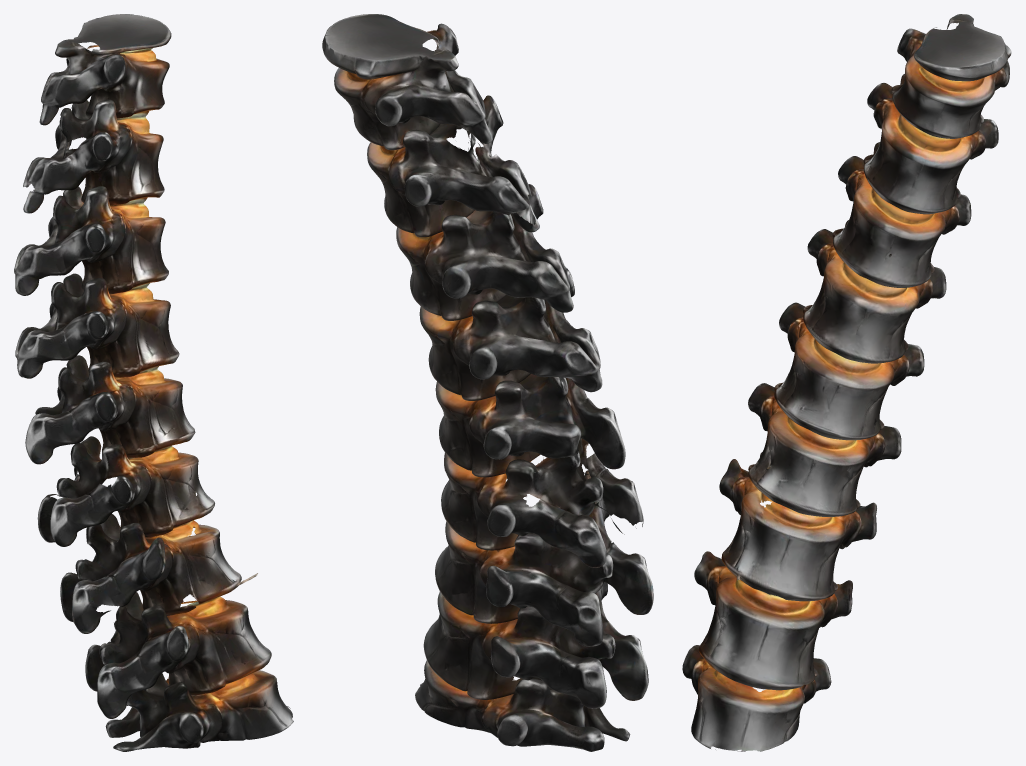
File: spine-phone.glb
The picture shows the model from 3 angles, left to right: view 1: azimuth 30°, elevation 25°; view 2: azimuth 150°, elevation 25°; view 3: azimuth 270°, elevation 25°; orthographic projection. The views are drawn at different scales.
Visible parts, largest first — view 1: tripo_node_b2a1ff4f-8972-4df4-b4bd-6063b4841254; view 2: tripo_node_b2a1ff4f-8972-4df4-b4bd-6063b4841254; view 3: tripo_node_b2a1ff4f-8972-4df4-b4bd-6063b4841254.
Part boxes in pixels (bbox=[...]): tripo_node_b2a1ff4f-8972-4df4-b4bd-6063b4841254: bbox=[14, 14, 293, 751]; tripo_node_b2a1ff4f-8972-4df4-b4bd-6063b4841254: bbox=[322, 14, 653, 751]; tripo_node_b2a1ff4f-8972-4df4-b4bd-6063b4841254: bbox=[682, 14, 1011, 751].
Bounding box in the file's own units: 0.3554 × 0.9822 × 0.4338.
1 material, 1 textured.
